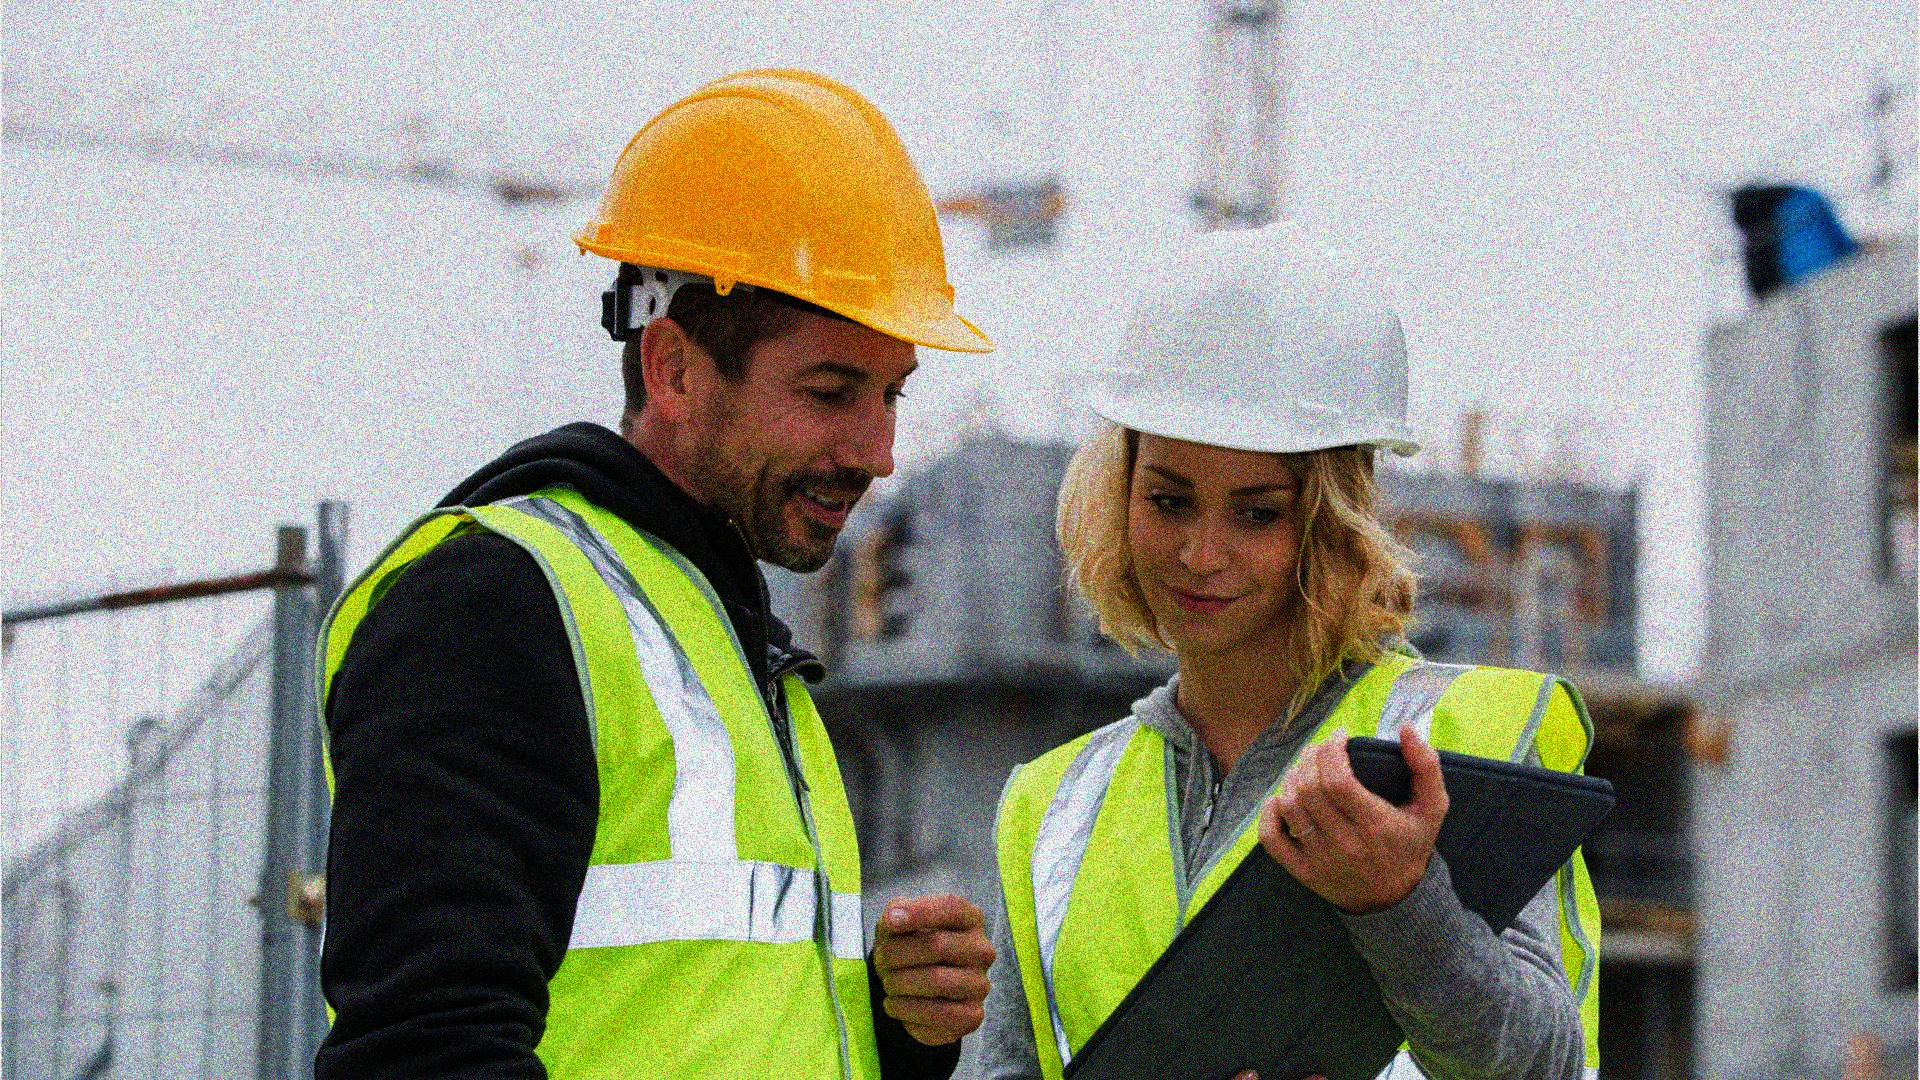helmet: (563, 69, 992, 578), (1072, 218, 1418, 658)
